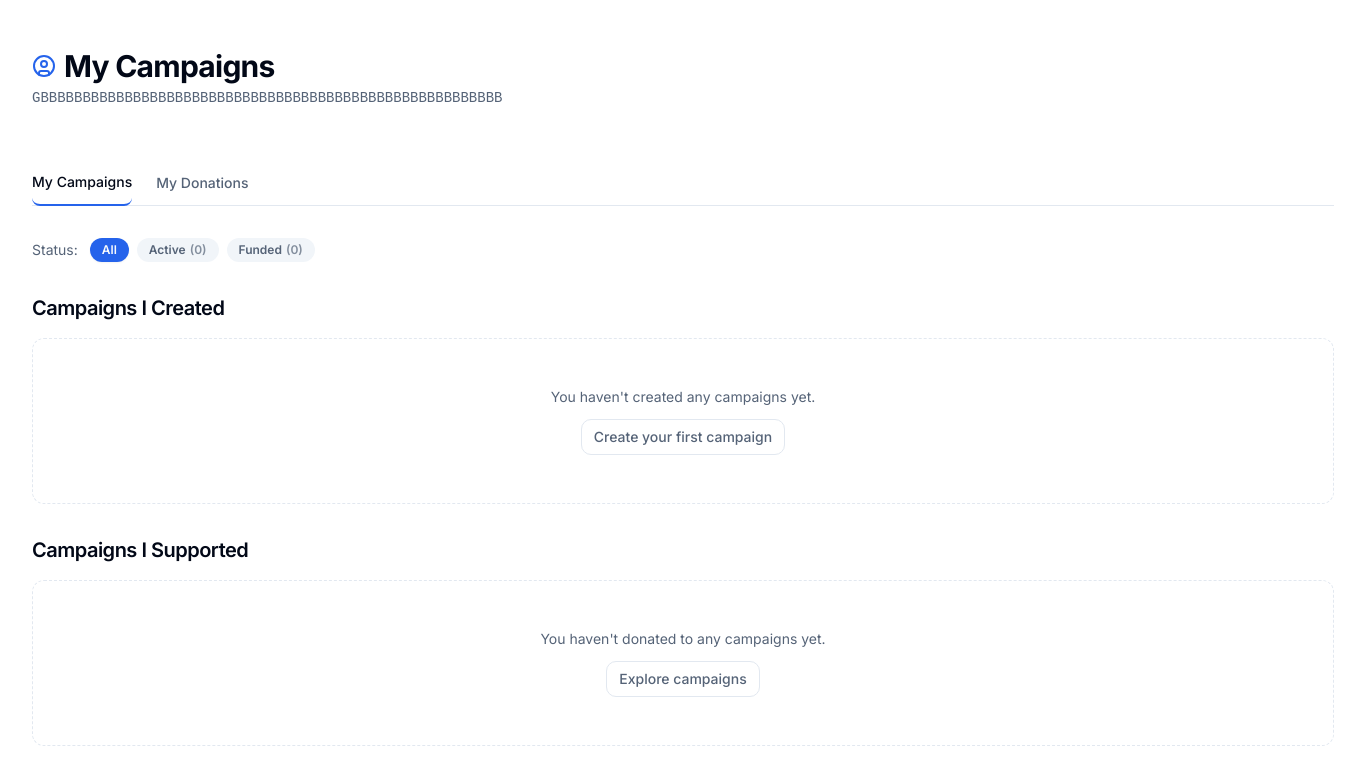
Test: ProfilePage - malformed event payloads › does not crash when the events payload is not an array
Click the tab "My Donations": (202, 188) [156,172,248,204]
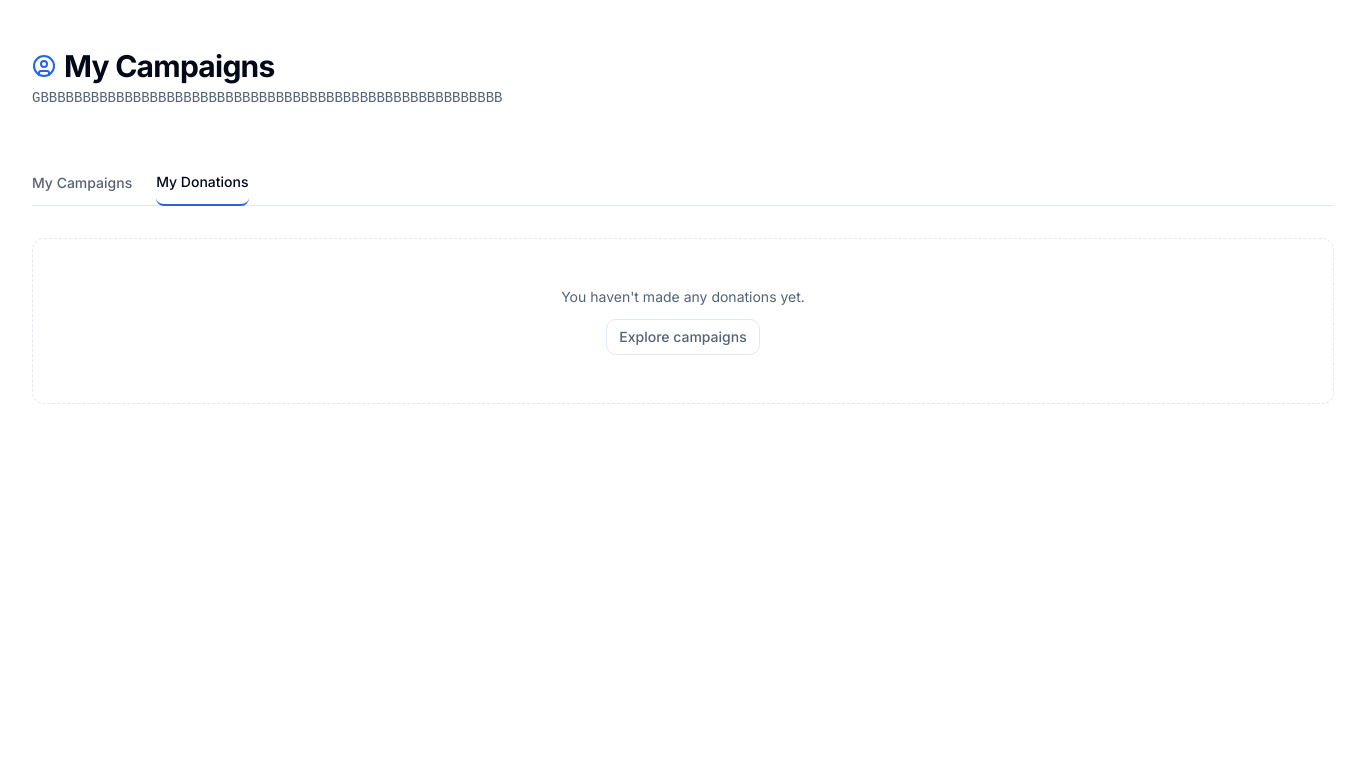
Expected: the text "You haven't made any donations yet." is shown, [561,287,805,307]
